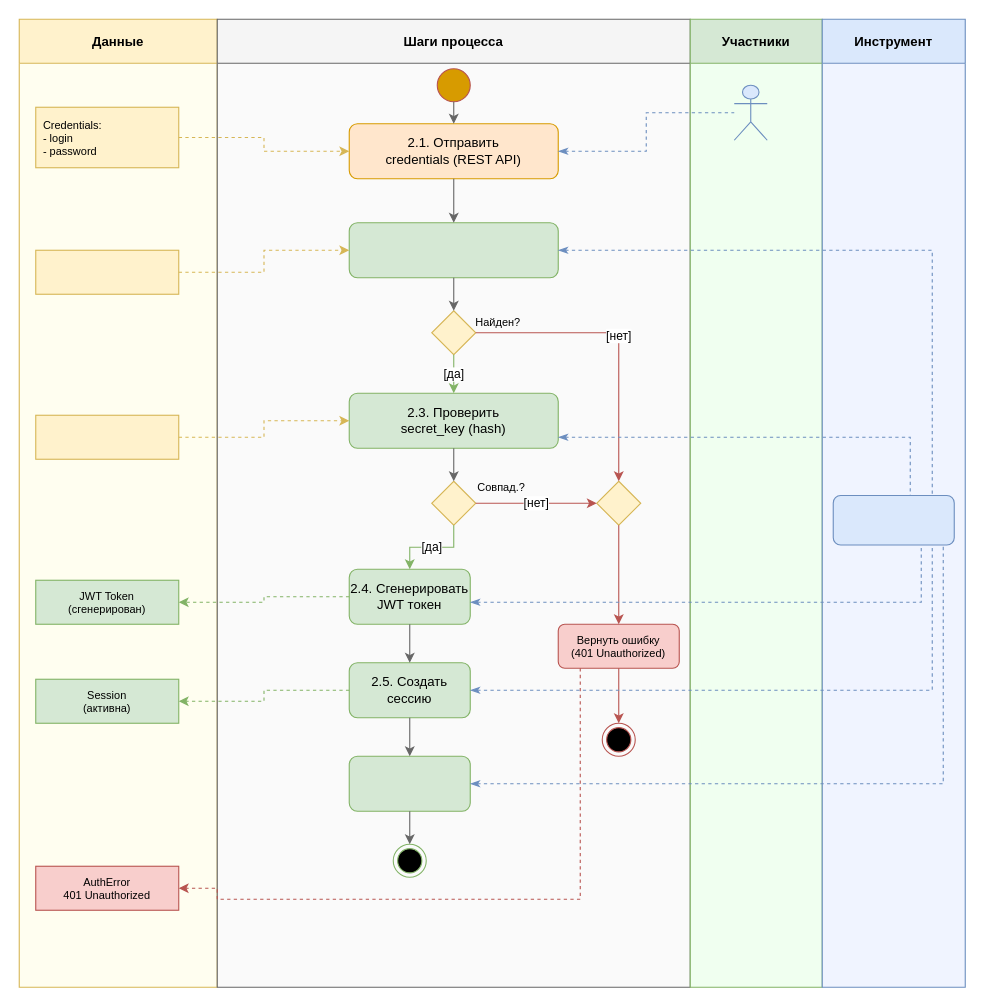
This 985x1007 diagram has some shape labels left out. The shapes that lost their labels are listed below. From the top down, each one's centre as x and y in pixels, then its label:
At (750,112): ":Пользователь".
At (453,250): "2.2. Найти пользователя по access_key".
At (107,271): "User (найден в БД)".
At (107,436): "Hash (secret_key hash)".
At (893,519): "Object Storage Console".
At (409,783): "2.6. Вернуть токен и данные пользователя".
